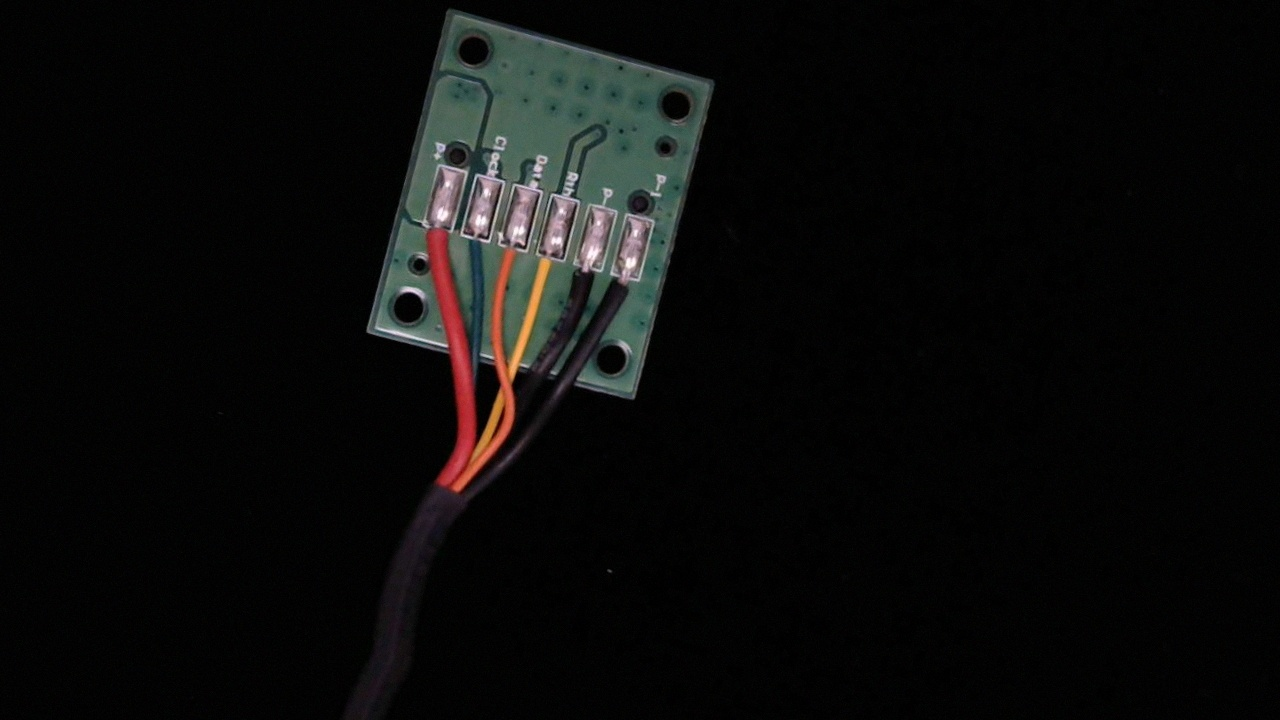Black: (555, 247, 610, 327)
Black1: (594, 259, 646, 332)
Green: (447, 215, 496, 281)
Orange: (481, 226, 534, 304)
Red: (411, 205, 460, 272)
Yellow: (518, 235, 573, 316)
